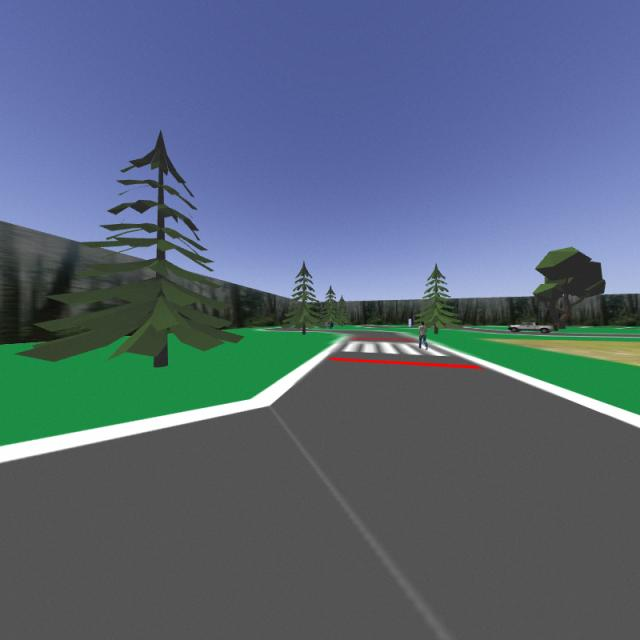pedestrian: (417, 320, 429, 352)
